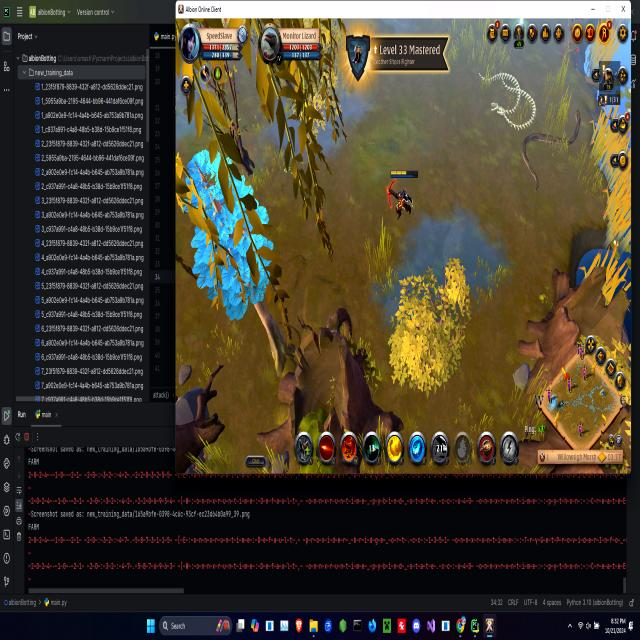ore: (518, 102, 590, 195)
red: (388, 164, 419, 225)
